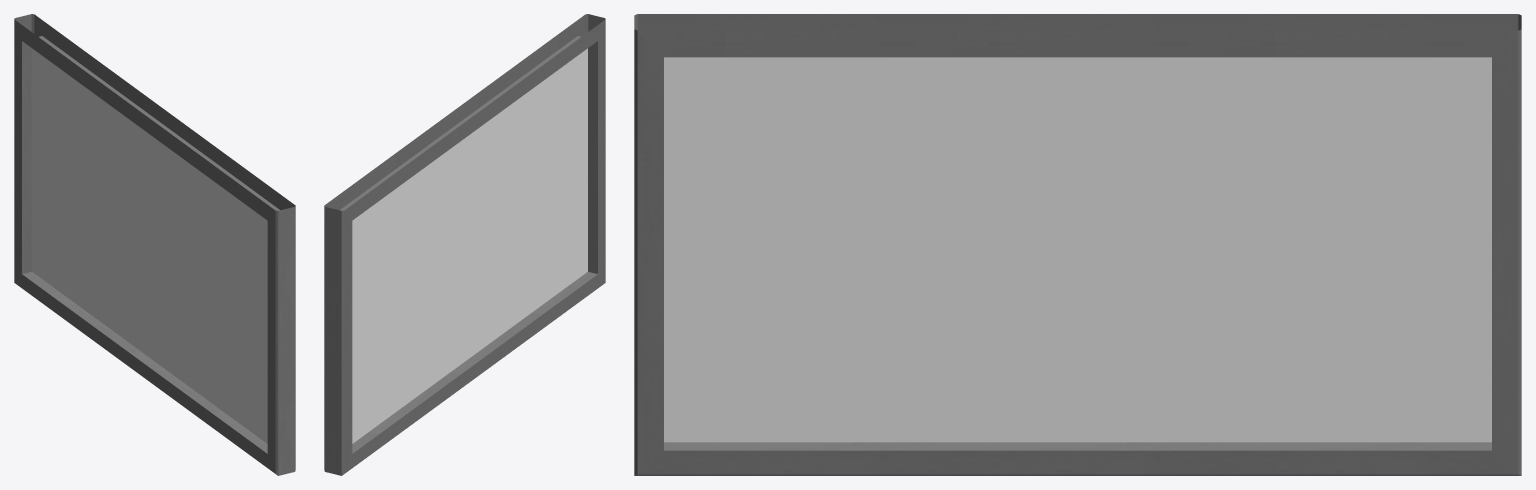
The model's file is GlassDoorTop.glb.
3 renders of one model, left to right at view 1: azimuth 30°, elevation 25°; view 2: azimuth 150°, elevation 25°; view 3: azimuth 270°, elevation 25°, orthographic. The views are drawn at different scales.
Parts seen in each view (by area): view 1: glass door top; view 2: glass door top; view 3: glass door top.
Boxes of the visible parts, bbox=[...] form: glass door top: bbox=[14, 14, 295, 475]; glass door top: bbox=[324, 14, 605, 475]; glass door top: bbox=[634, 14, 1521, 475].
Size of the model in its own units: 0.04 by 0.5 by 0.9.
2 materials, 1 textured.
